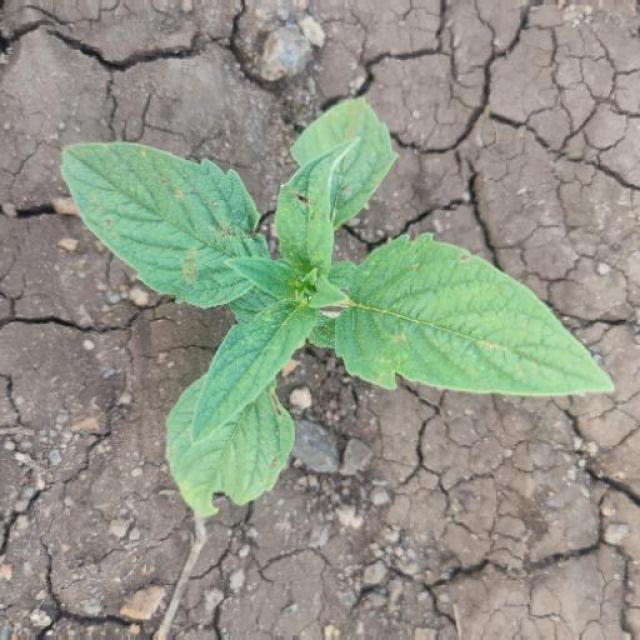weed: (56, 92, 614, 532)
